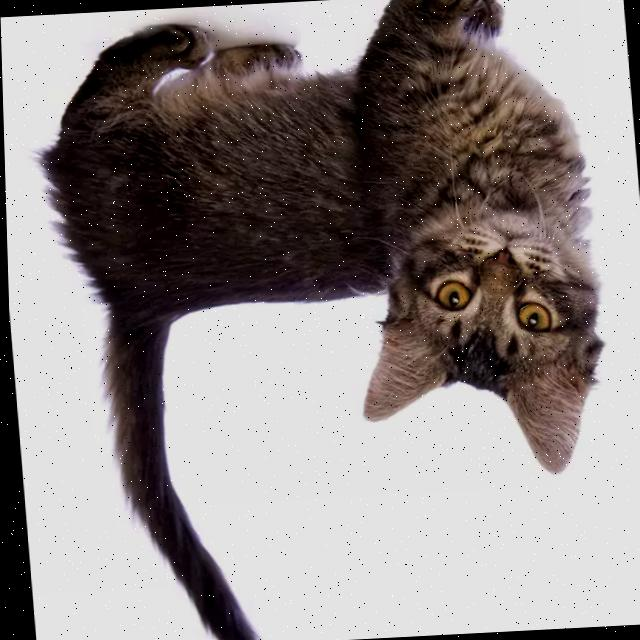Munchkin: (17, 0, 634, 640)
